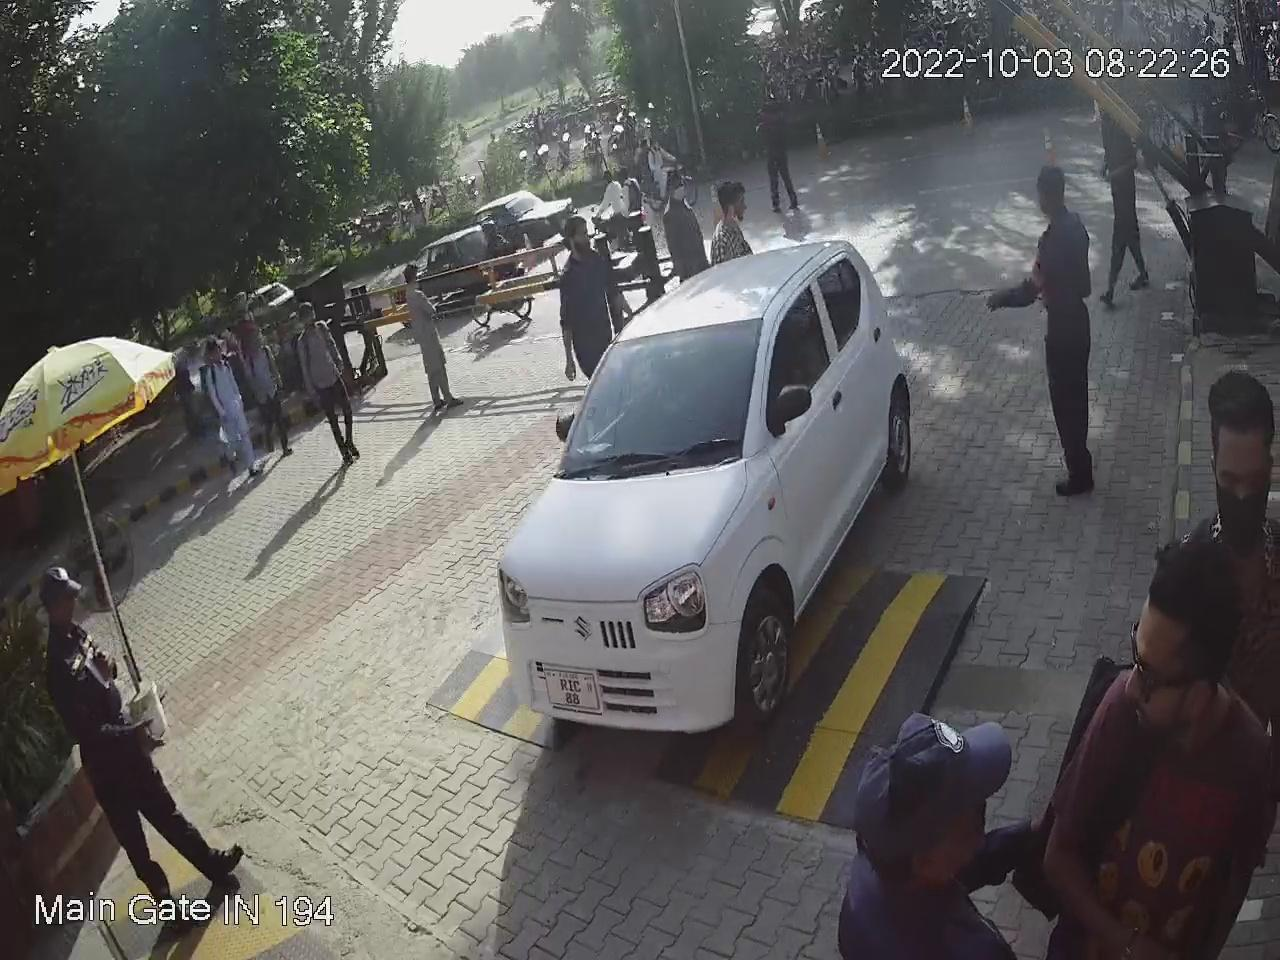windshield: (545, 310, 775, 490)
